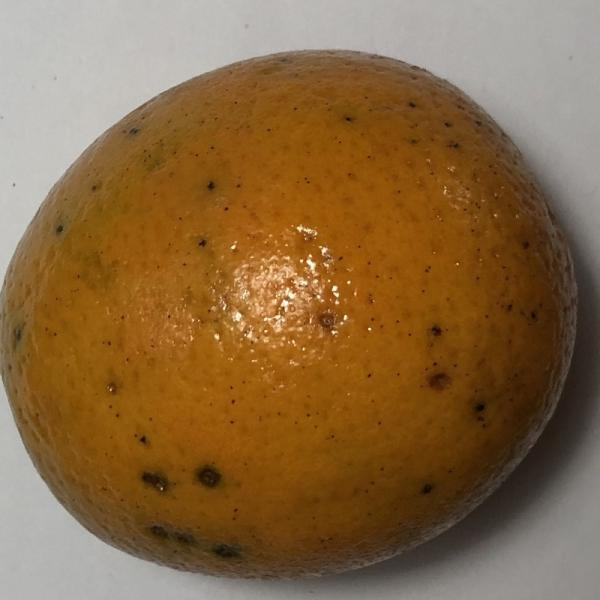Machas negras: (0, 23, 580, 587)
